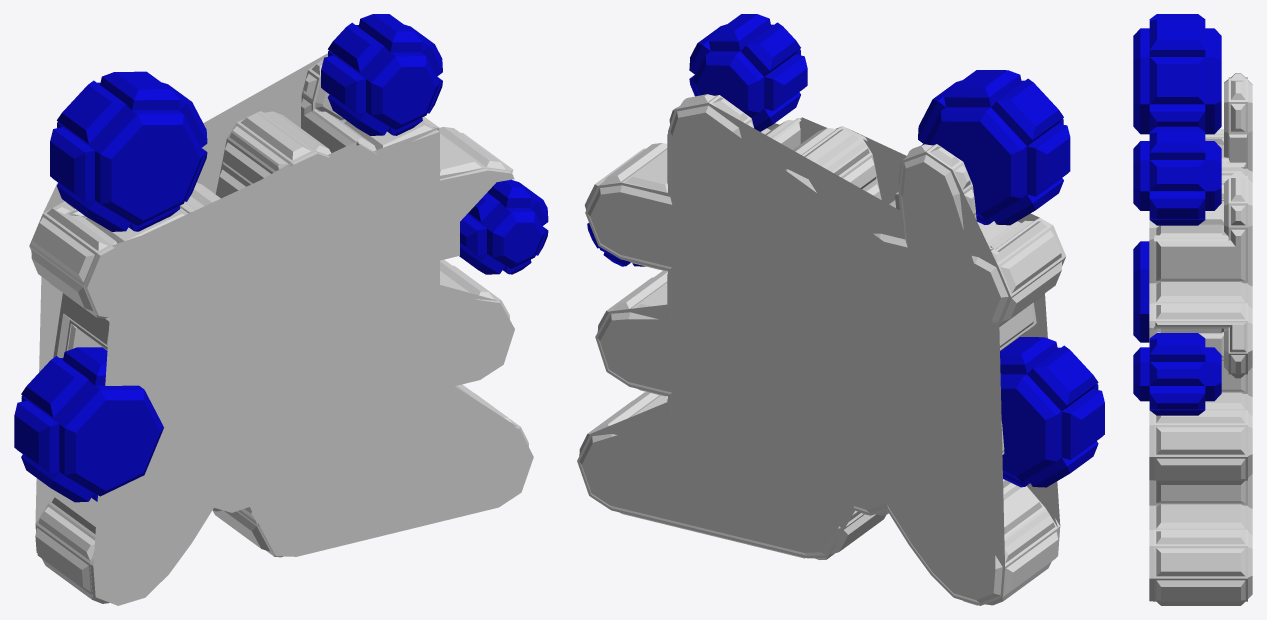
Rendered from Ch_China_姓_01.fbx.
The picture shows the model from 3 angles, left to right: view 1: azimuth 30°, elevation 25°; view 2: azimuth 150°, elevation 25°; view 3: azimuth 270°, elevation 25°; orthographic projection. The views are drawn at different scales.
Parts seen in each view (by area): view 1: sphere1; view 2: sphere1; view 3: sphere1.
Part boxes in pixels (x1,y1,x2,y2): sphere1: [14, 14, 548, 605]; sphere1: [577, 14, 1104, 605]; sphere1: [1133, 14, 1252, 605].
Bounding box in the file's own units: 1.08 × 1.03 × 0.2541.
